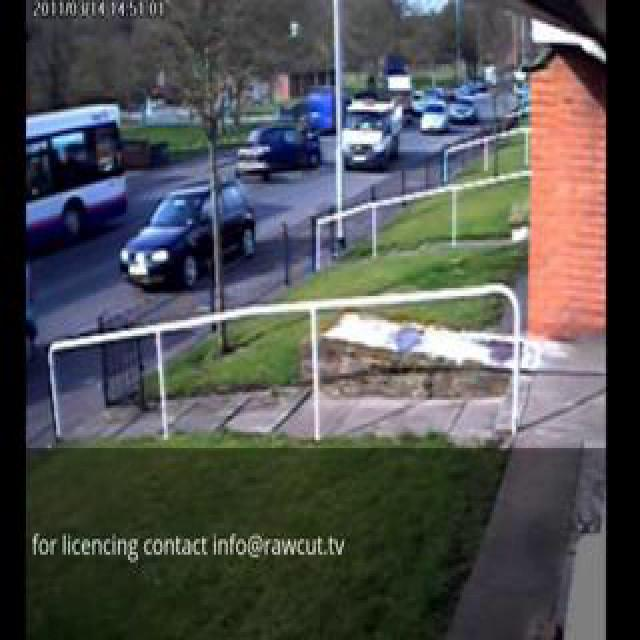road accidents: (274, 18, 406, 348), (351, 108, 357, 123)
